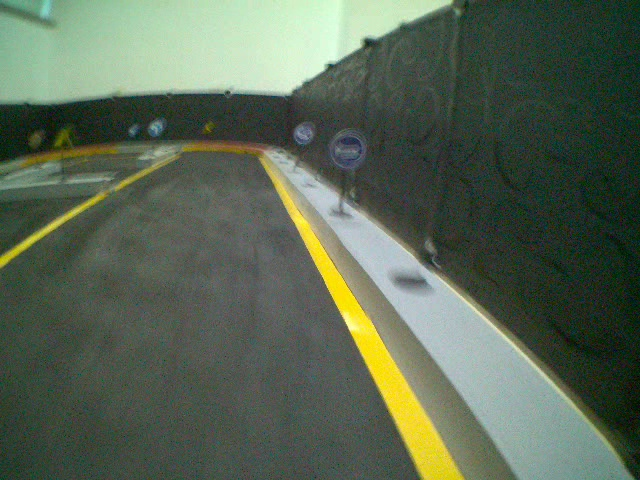horn: (329, 129, 367, 167)
turn: (146, 120, 162, 137)
